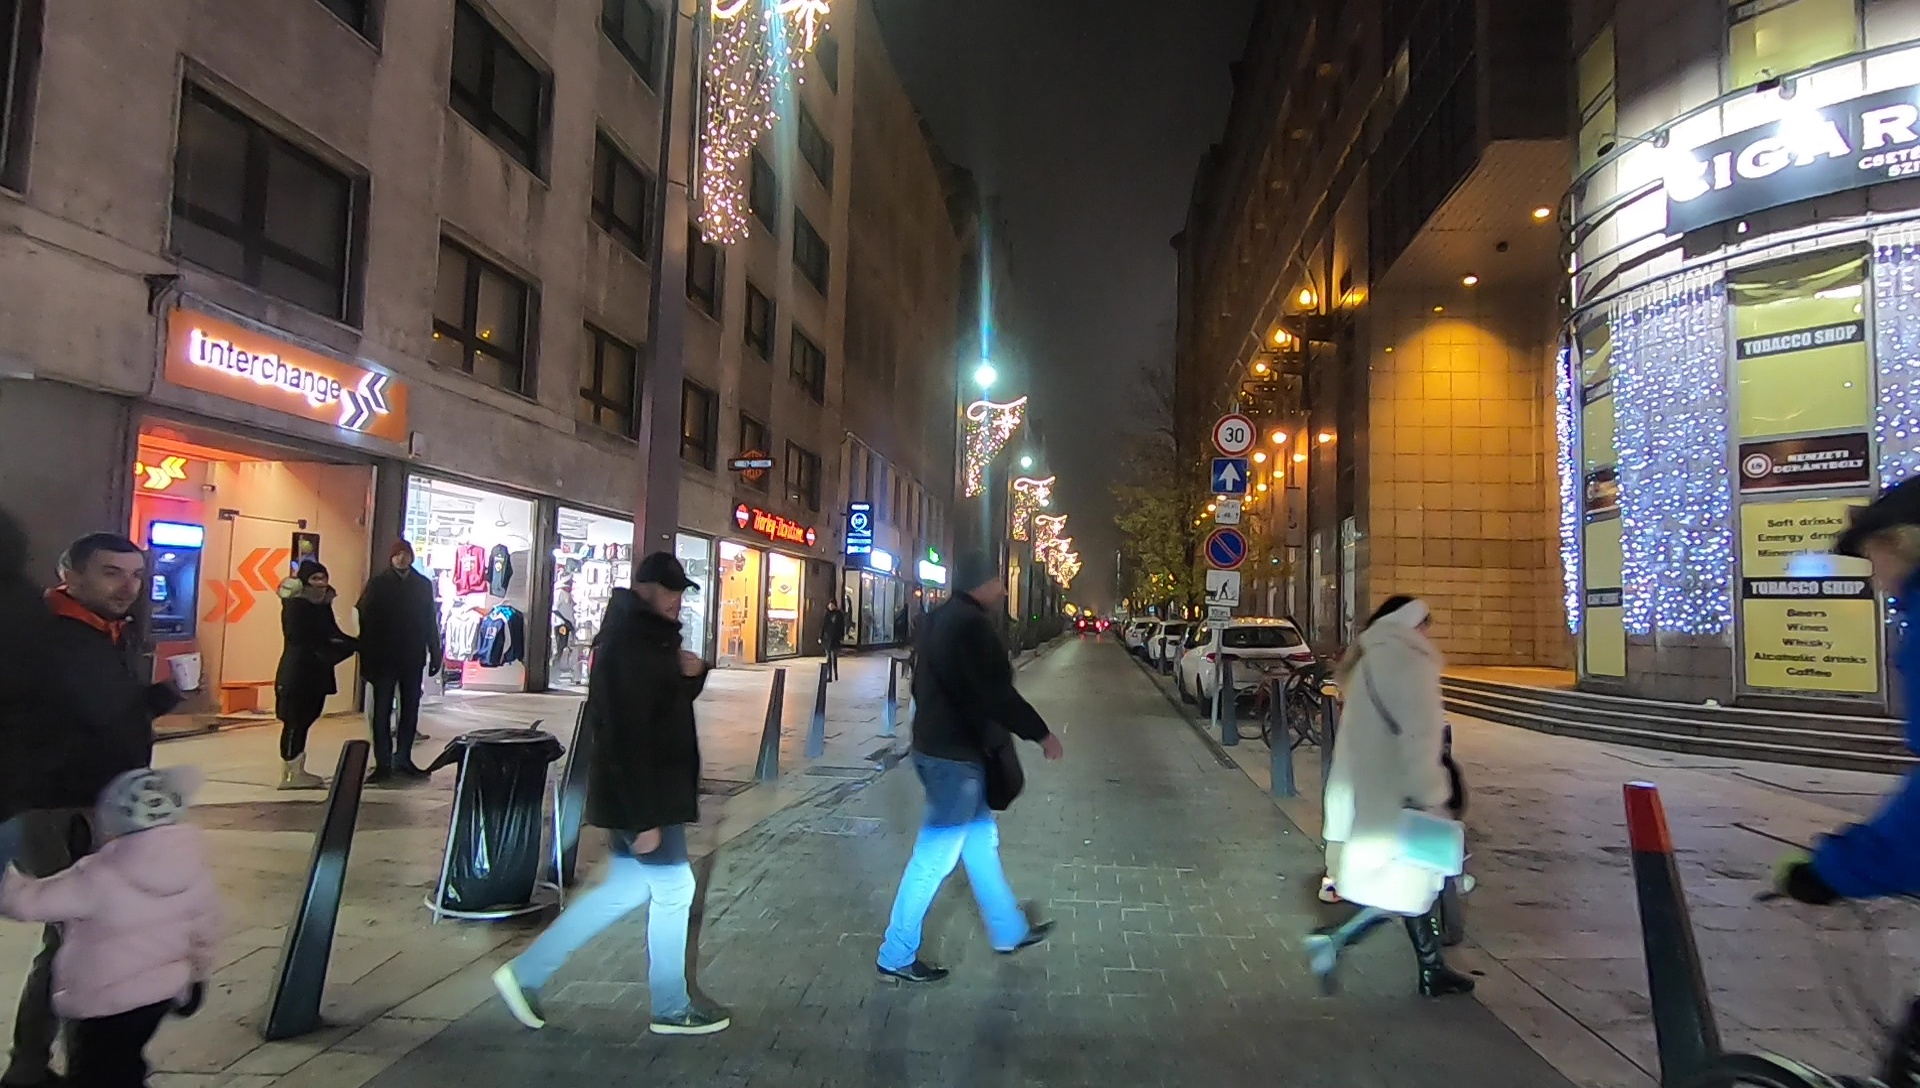person: (502, 549, 738, 1041), (2, 537, 152, 1061), (880, 552, 1062, 974), (1301, 597, 1489, 999), (51, 767, 206, 1088), (360, 541, 430, 786), (276, 556, 347, 791)
